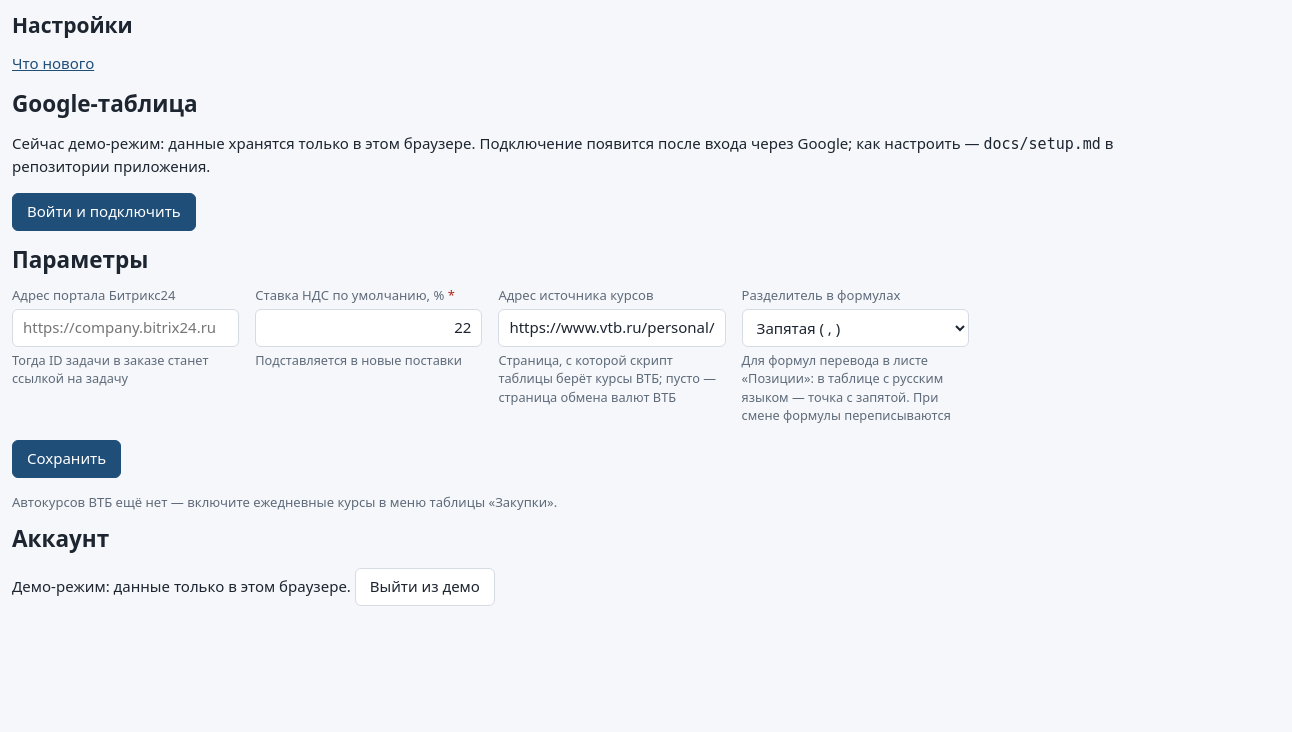
Test: экран настроек › сохраняет адрес портала, ставку НДС и источник курсов в лист «Настройки» таблицы
The width and height of the screenshot is (1292, 732).
Expected: the field labelled "Ставка НДС по умолчанию, % *" holds "22", [255,309,482,347]
In the field labelled "Адрес портала Битрикс24": {"x": 126, "y": 328} [12,309,239,347], type "https://demo.bitrix24.ru/"
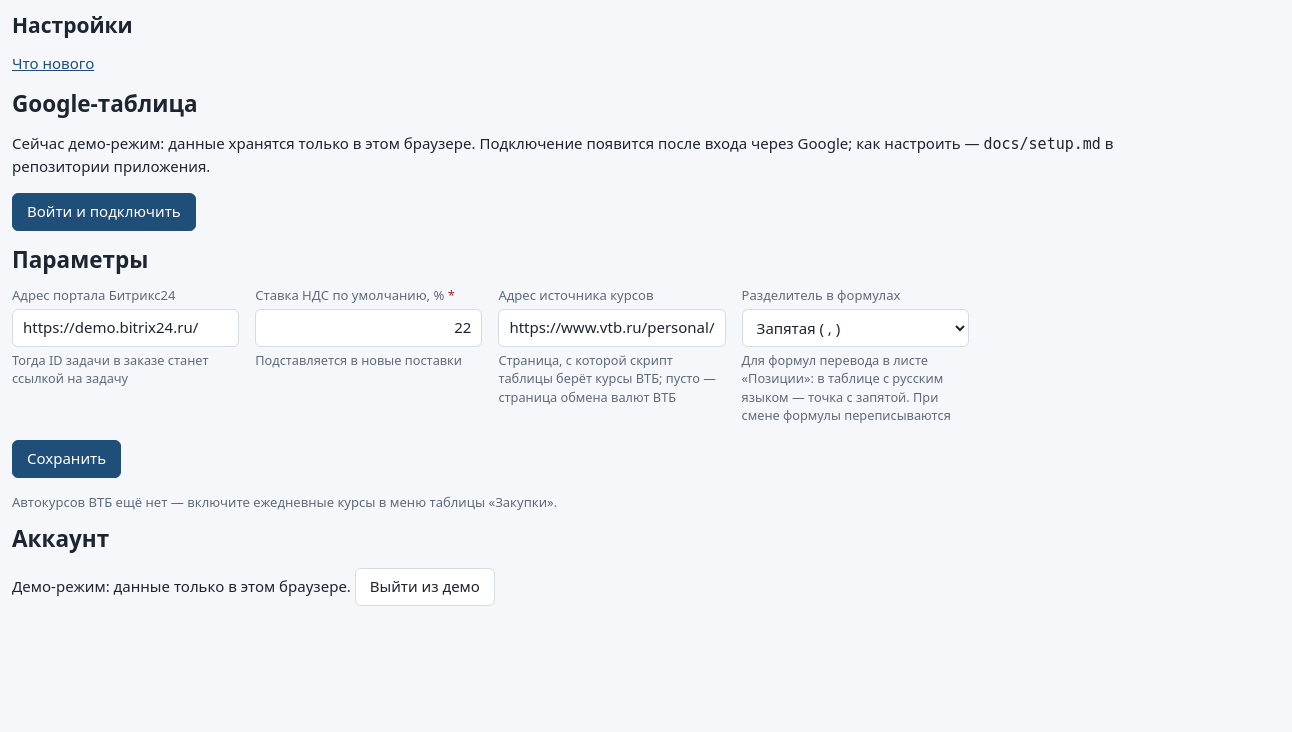
Replace the text in the field labelled "Ставка НДС по умолчанию, % *" with "20": {"x": 369, "y": 328} [255,309,482,347]
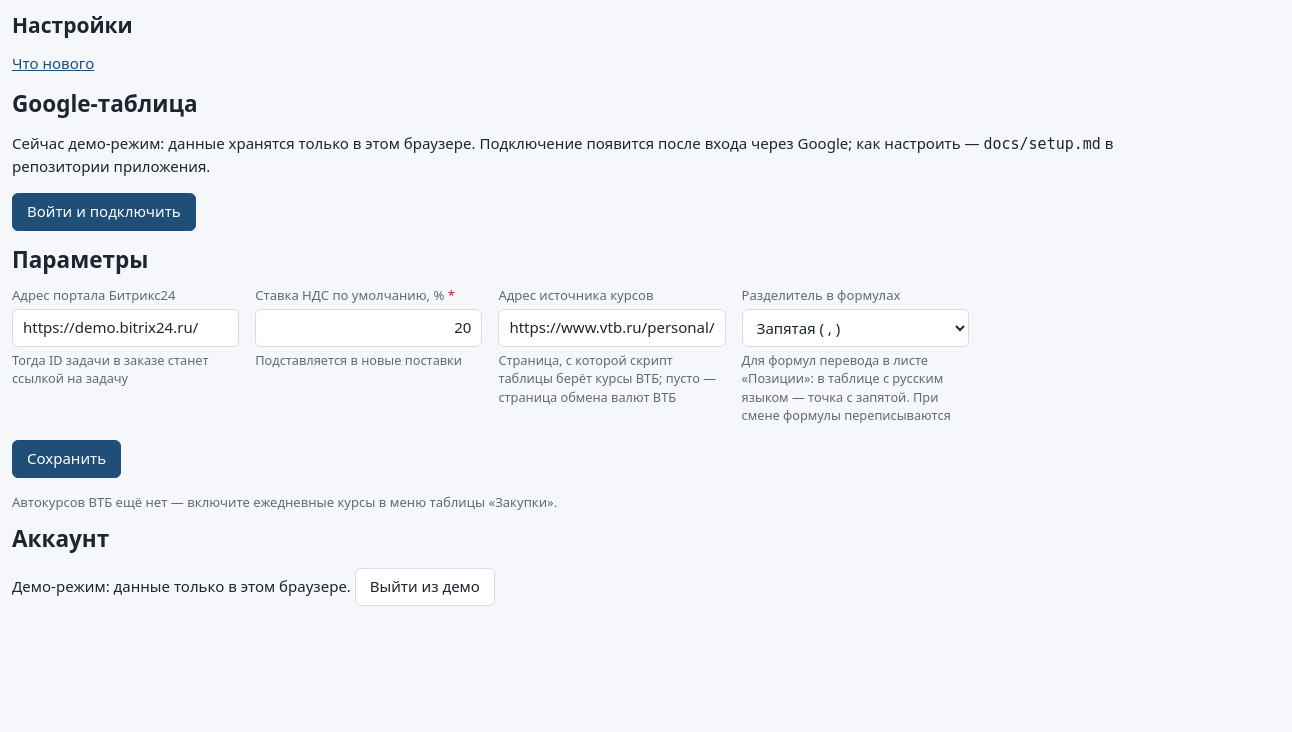
Replace the text in the field labelled "Адрес источника курсов" with "https://example.com/rates": {"x": 612, "y": 328} [498,309,726,347]
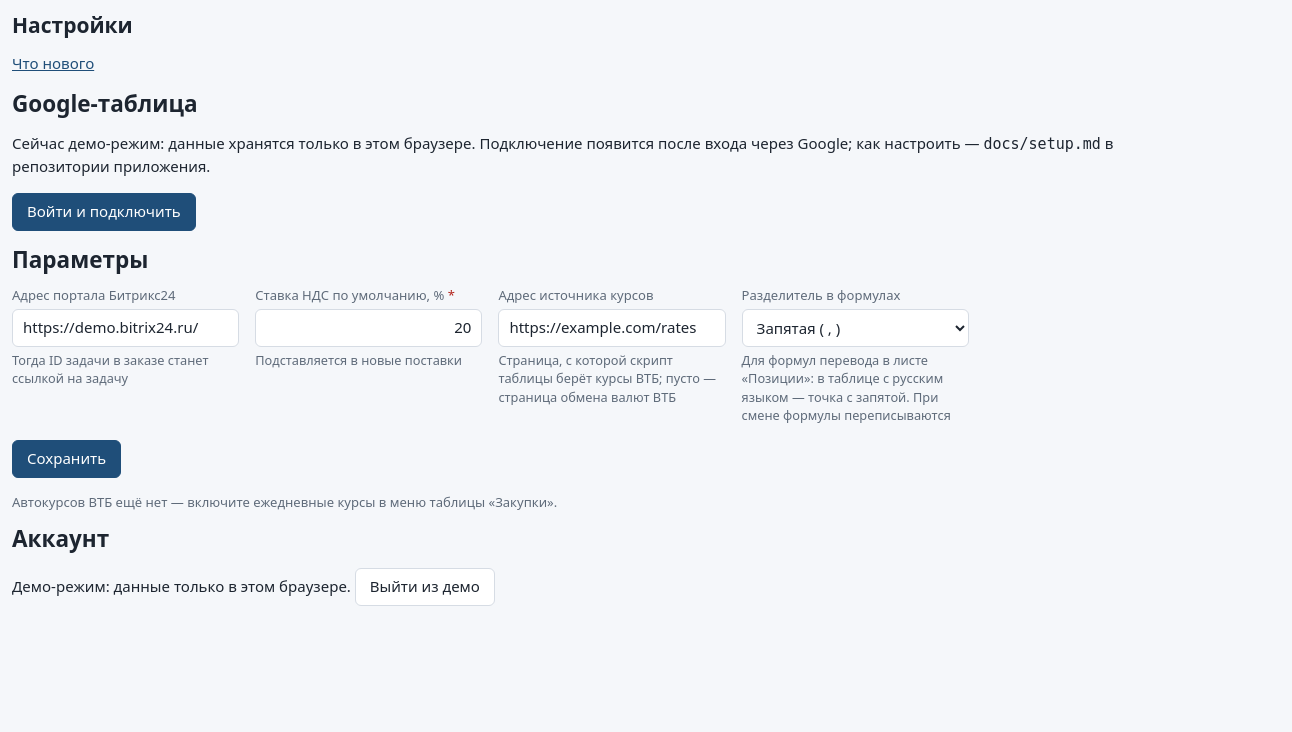
Click the button "Сохранить": {"x": 67, "y": 459} [12,440,121,478]
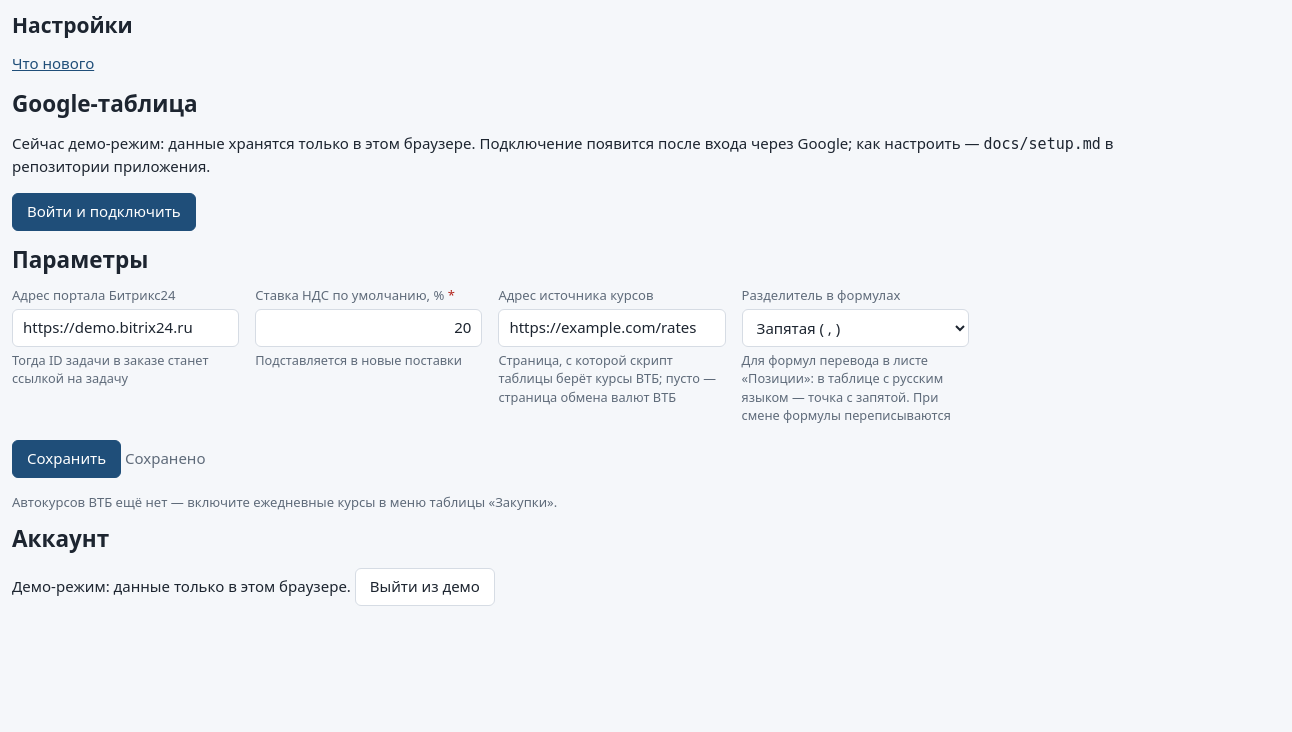
Expected: the text "Сохранено" is shown, [121,448,206,468]
